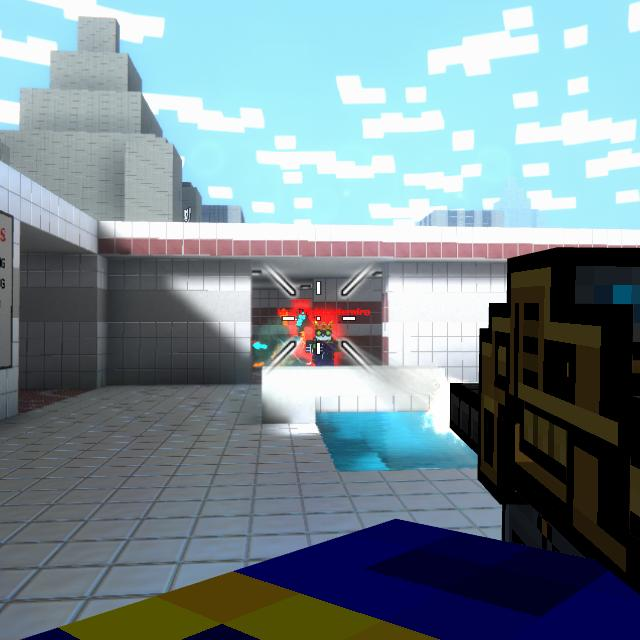Enemy: (305, 323, 341, 365)
